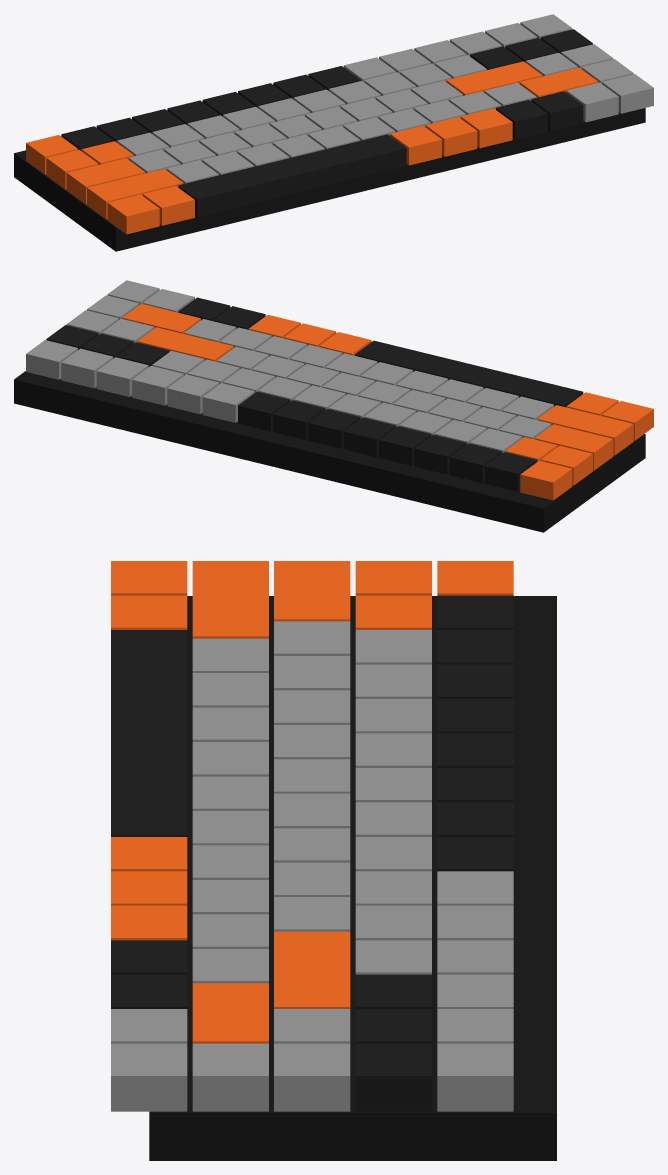
File: 04-keyboard-orange-gray-black.glb
The picture shows the model from 3 angles, top to bottom: view 1: azimuth 30°, elevation 25°; view 2: azimuth 150°, elevation 25°; view 3: azimuth 270°, elevation 25°; orthographic projection. The views are drawn at different scales.
Size of the model in its own units: 0.2775 by 0.021 by 0.1012.
